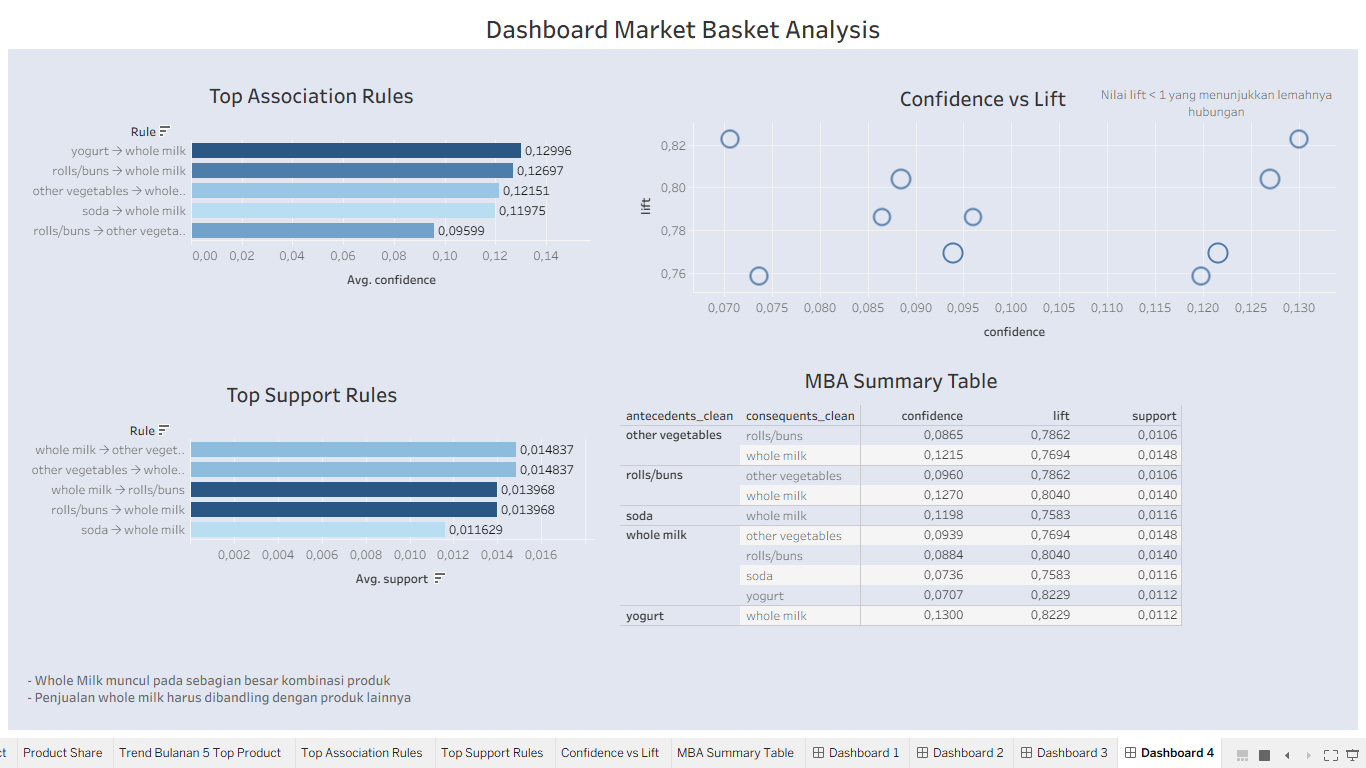

The page's visual inventory and layout, read from the dashboard file:
{"tool":"tableau","page":{"name":"Dashboard 4","canvas":[1000,1000],"units":"permille","ordinal":3},"visuals":[{"type":"title","box":[6.9,13.5,986.1,69.2]},{"type":"text","box":[800.9,98,179.2,84.5]},{"type":"worksheet","title":"Top Association Rules","mark":"Automatic","rows":["Calculation_1410142272786434"],"cols":["confidence"],"box":[22.5,104.7,410.4,383.4]},{"type":"worksheet","title":"Confidence vs Lift","mark":"Automatic","rows":["lift"],"cols":["confidence"],"box":[461.5,108.1,516.9,361.5]},{"type":"worksheet","title":"MBA Summary Table","mark":"Automatic","rows":["Calculation_1410142258946048","Calculation_1410142259101697"],"box":[453.7,489.9,524.7,479.7]},{"type":"worksheet","title":"Top Support Rules","mark":"Automatic","rows":["Calculation_1410142272786434"],"cols":["support"],"box":[21.7,510.1,413,381.8]},{"type":"text","box":[18.2,891.9,399.1,82.8]}]}

Visuals, with their boxes on the dashboard's canvas, which has no fixed pixel size, in thousandths of its width and height (x1, y1, x2, y2). These are canvas units, not pixel positions in the 1366x768 screenshot, which may show the page scaled, cropped or inside an application window:
title: {"x1": 7, "y1": 14, "x2": 993, "y2": 83}
text: {"x1": 801, "y1": 98, "x2": 980, "y2": 182}
"Top Association Rules" worksheet: {"x1": 22, "y1": 105, "x2": 433, "y2": 488}
"Confidence vs Lift" worksheet: {"x1": 462, "y1": 108, "x2": 978, "y2": 470}
"MBA Summary Table" worksheet: {"x1": 454, "y1": 490, "x2": 978, "y2": 970}
"Top Support Rules" worksheet: {"x1": 22, "y1": 510, "x2": 435, "y2": 892}
text: {"x1": 18, "y1": 892, "x2": 417, "y2": 975}
